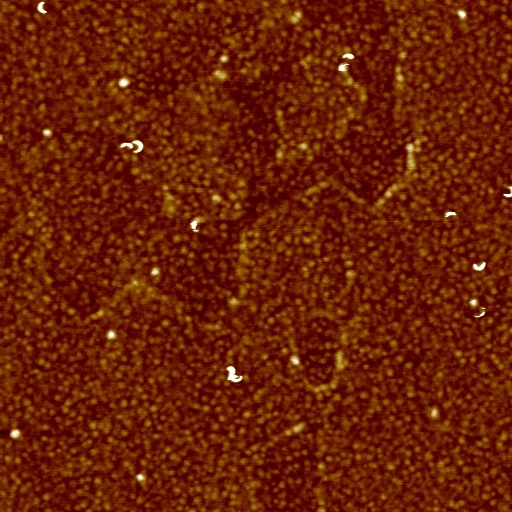-1: (226, 364, 244, 385), (117, 77, 132, 91), (189, 220, 201, 235), (336, 61, 348, 74), (106, 329, 117, 342), (150, 266, 161, 278), (11, 428, 21, 440), (137, 474, 147, 483), (43, 129, 52, 139)
1/4: (472, 308, 490, 320), (340, 51, 355, 62), (444, 210, 457, 219)
2/4: (36, 1, 51, 19), (133, 138, 147, 157), (471, 258, 487, 273), (503, 185, 511, 200)
